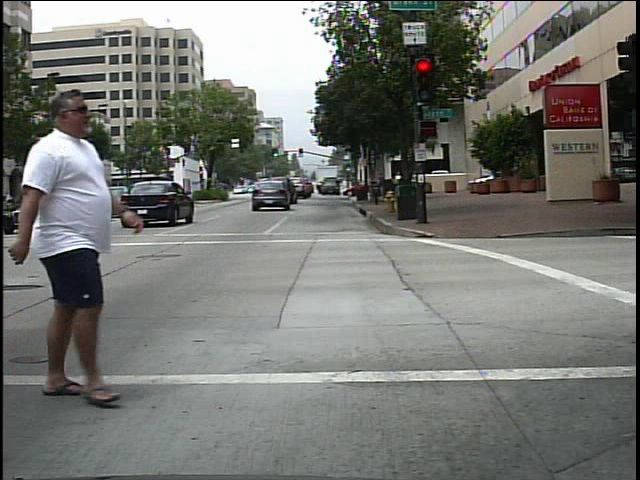person: (7, 88, 152, 404)
